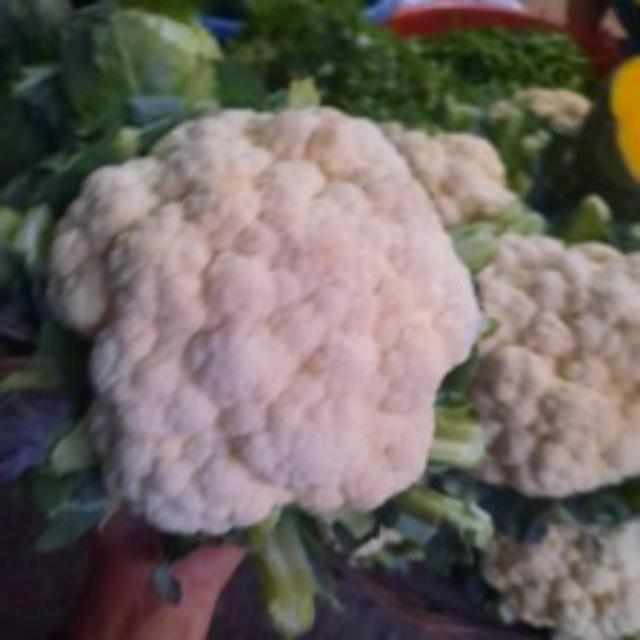cauliflower: (50, 97, 543, 555)
